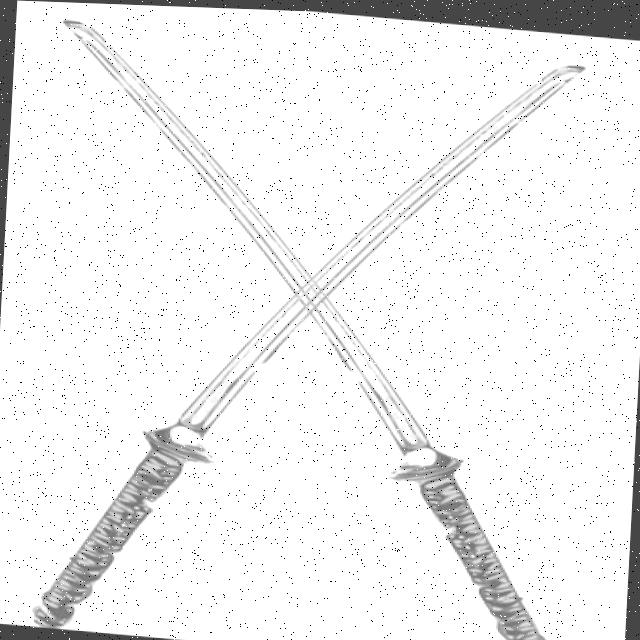knife: (29, 14, 585, 640), (30, 16, 585, 640)
